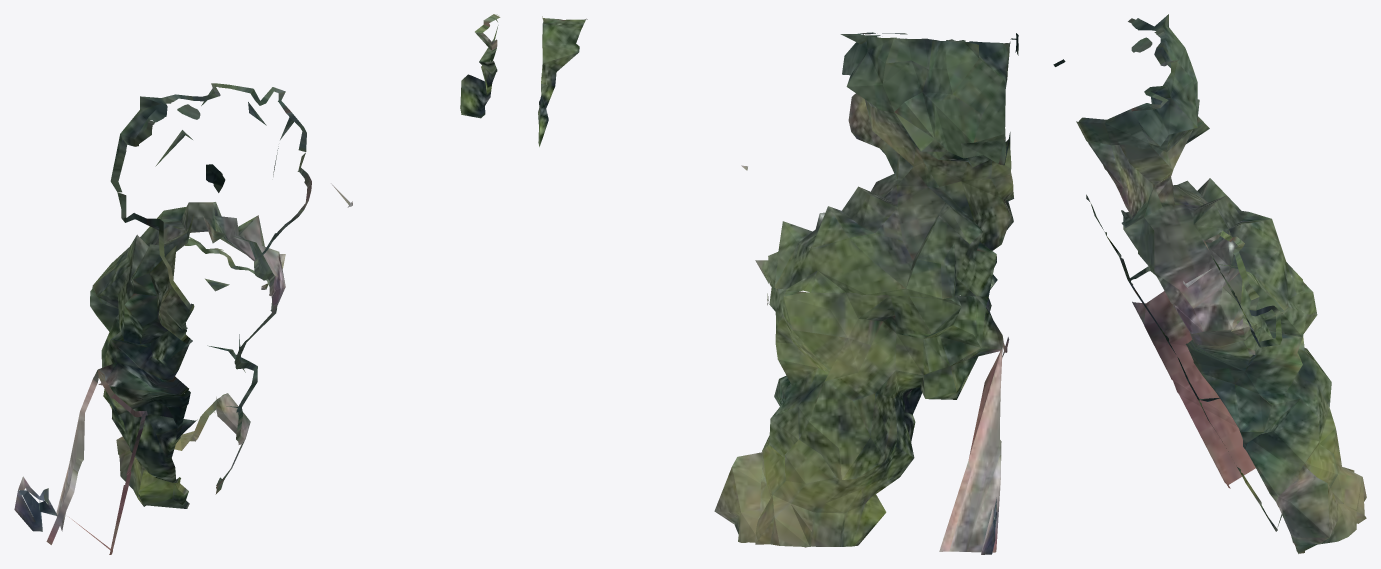
Rendered from AJVsH2zuhg_FbLXL_ngLgF4zi-8Z65E0g_WnrQKFguJIB5lkbu4O3ENrKrBVEb2FOrO1yeHh1RFdmBGMxSsKijBaQf-u49V7POH-mVPsIRht-gq96qzyW01qA8xULktnv1KLaZ6nJmhr-3s9v7tBs33H9thy.glb.
The picture shows the model from 3 angles, left to right: view 1: azimuth 30°, elevation 25°; view 2: azimuth 150°, elevation 25°; view 3: azimuth 270°, elevation 25°; orthographic projection. The views are drawn at different scales.
Size of the model in its own units: 40.26 by 39.78 by 24.37.
1 material, 1 textured.
